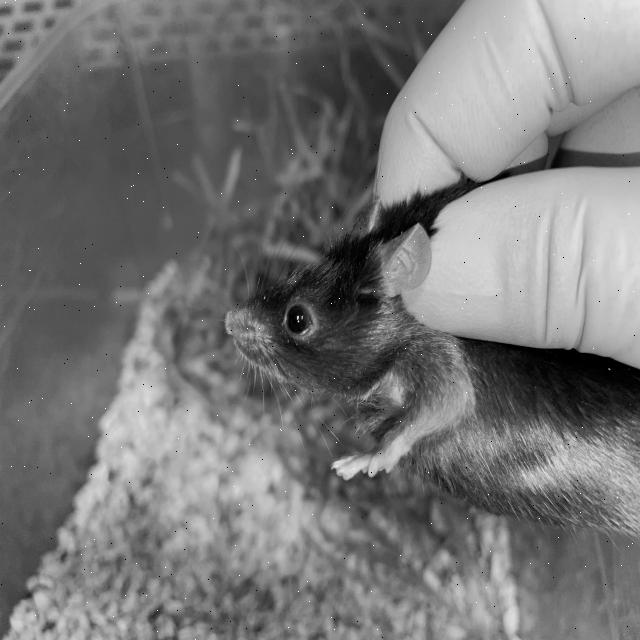Face: (221, 188, 436, 427)
